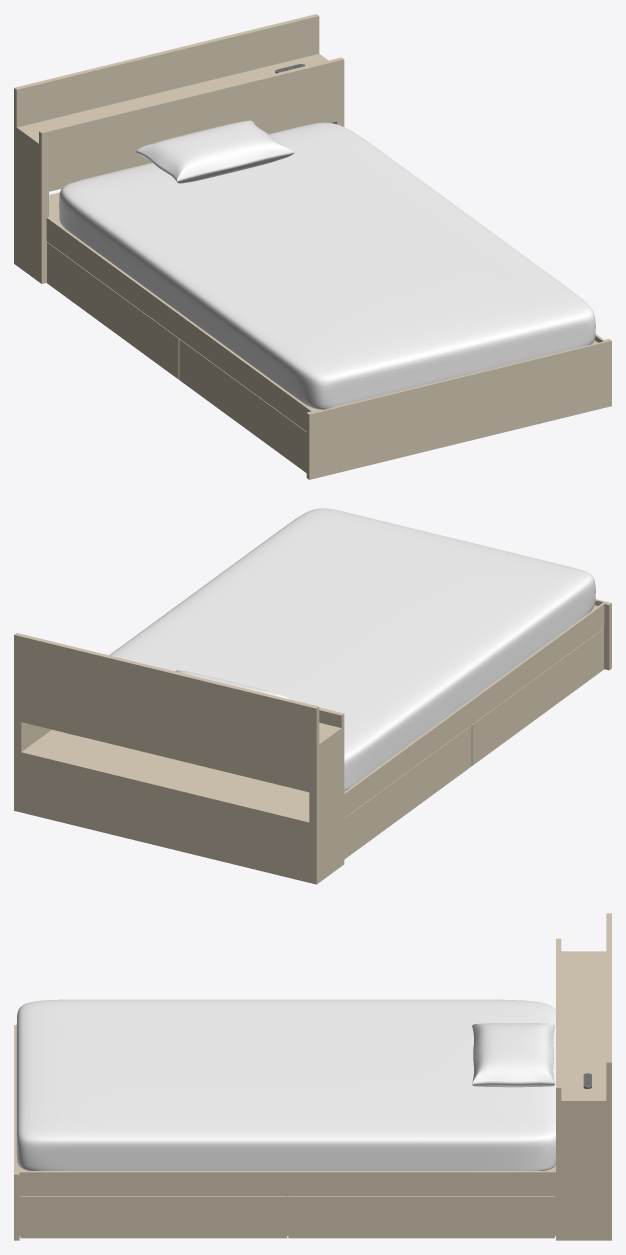
Rendered from シングルベッド.fbx.
3 renders of one model, top to bottom at view 1: azimuth 30°, elevation 25°; view 2: azimuth 150°, elevation 25°; view 3: azimuth 270°, elevation 25°, orthographic.
Visible parts, largest first — view 1: マットレス.001, body.001, 枕.001, 引き出し4.001, 引き出し3.001; view 2: body.001, マットレス.001, 引き出し3.001, 引き出し4.001; view 3: マットレス.001, body.001, 引き出し1.001, 引き出し2.001, 枕.001.
Part boxes in pixels (box(x1,y1,x2,y2)): マットレス.001: box(59, 122, 595, 409); body.001: box(14, 14, 611, 479); 枕.001: box(136, 120, 294, 183); 引き出し4.001: box(47, 242, 179, 379); 引き出し3.001: box(179, 339, 306, 472); body.001: box(14, 599, 611, 884); マットレス.001: box(66, 508, 595, 792); 引き出し3.001: box(471, 628, 603, 765); 引き出し4.001: box(344, 725, 471, 859); マットレス.001: box(16, 999, 555, 1170); body.001: box(14, 913, 611, 1240); 引き出し1.001: box(20, 1196, 287, 1238); 引き出し2.001: box(288, 1196, 554, 1238); 枕.001: box(472, 1023, 554, 1087).
Size of the model in its own units: 126 by 70 by 213.
